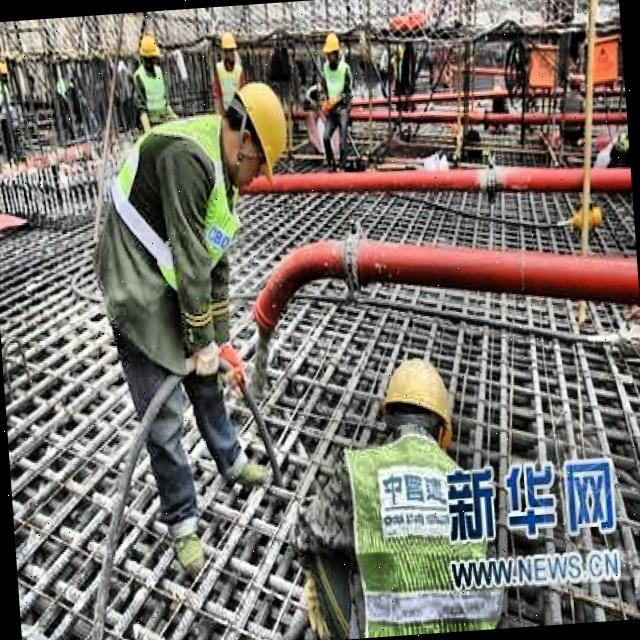helmet: (372, 346, 462, 464), (216, 71, 298, 193), (134, 26, 164, 73), (318, 26, 346, 74), (217, 29, 240, 66)
